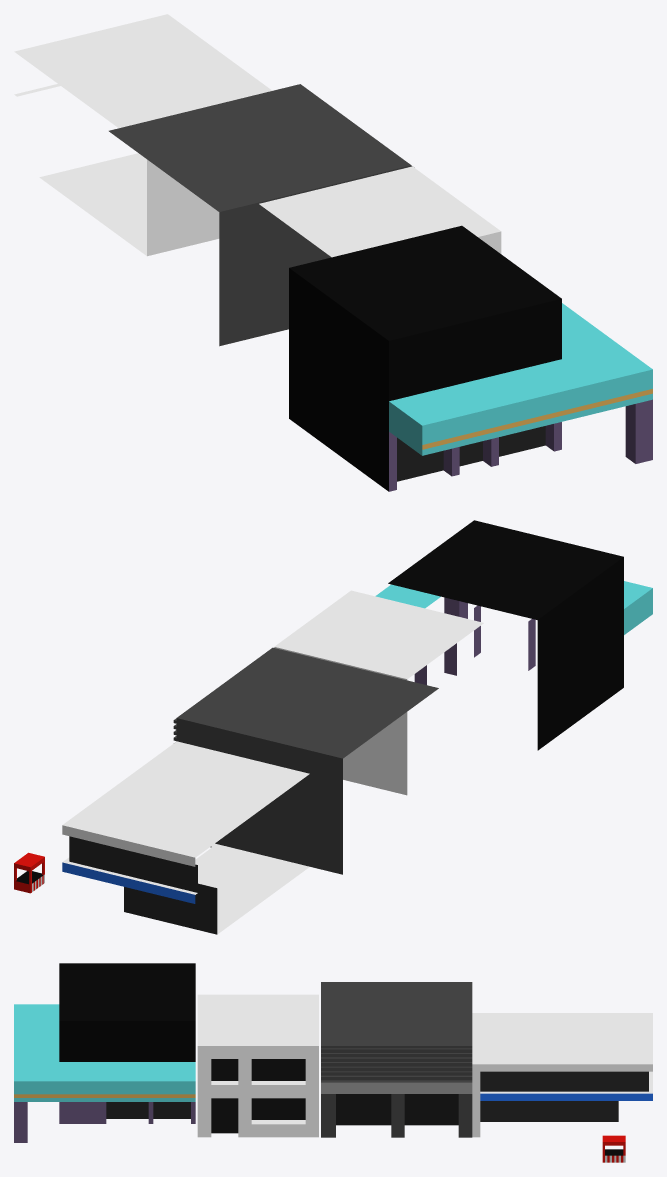
File: Edificio-4-Derecha.glb
3 views of the same model, one above another, from view 1: azimuth 30°, elevation 25°; view 2: azimuth 150°, elevation 25°; view 3: azimuth 270°, elevation 25° (orthographic). The views are drawn at different scales.
Visible parts, largest first — view 1: Plane4, Plane2, Plane, Plane3; view 2: Plane, Plane4, Plane2, Plane3, Plane5; view 3: Plane4, Plane2, Plane, Plane3, Plane5.
Part boxes in pixels (x1,y1,x2,y2): Plane4: [289, 225, 652, 491]; Plane2: [109, 84, 414, 346]; Plane: [14, 14, 272, 256]; Plane3: [259, 166, 501, 257]; Plane: [62, 741, 309, 934]; Plane4: [375, 520, 652, 750]; Plane2: [173, 647, 438, 874]; Plane3: [274, 590, 483, 795]; Plane5: [14, 852, 44, 893]; Plane4: [14, 963, 195, 1142]; Plane2: [321, 982, 472, 1137]; Plane: [472, 1013, 652, 1137]; Plane3: [197, 994, 318, 1137]; Plane5: [602, 1135, 625, 1162].
Bounding box in the file's own units: 30.11 × 15 × 84.35.
